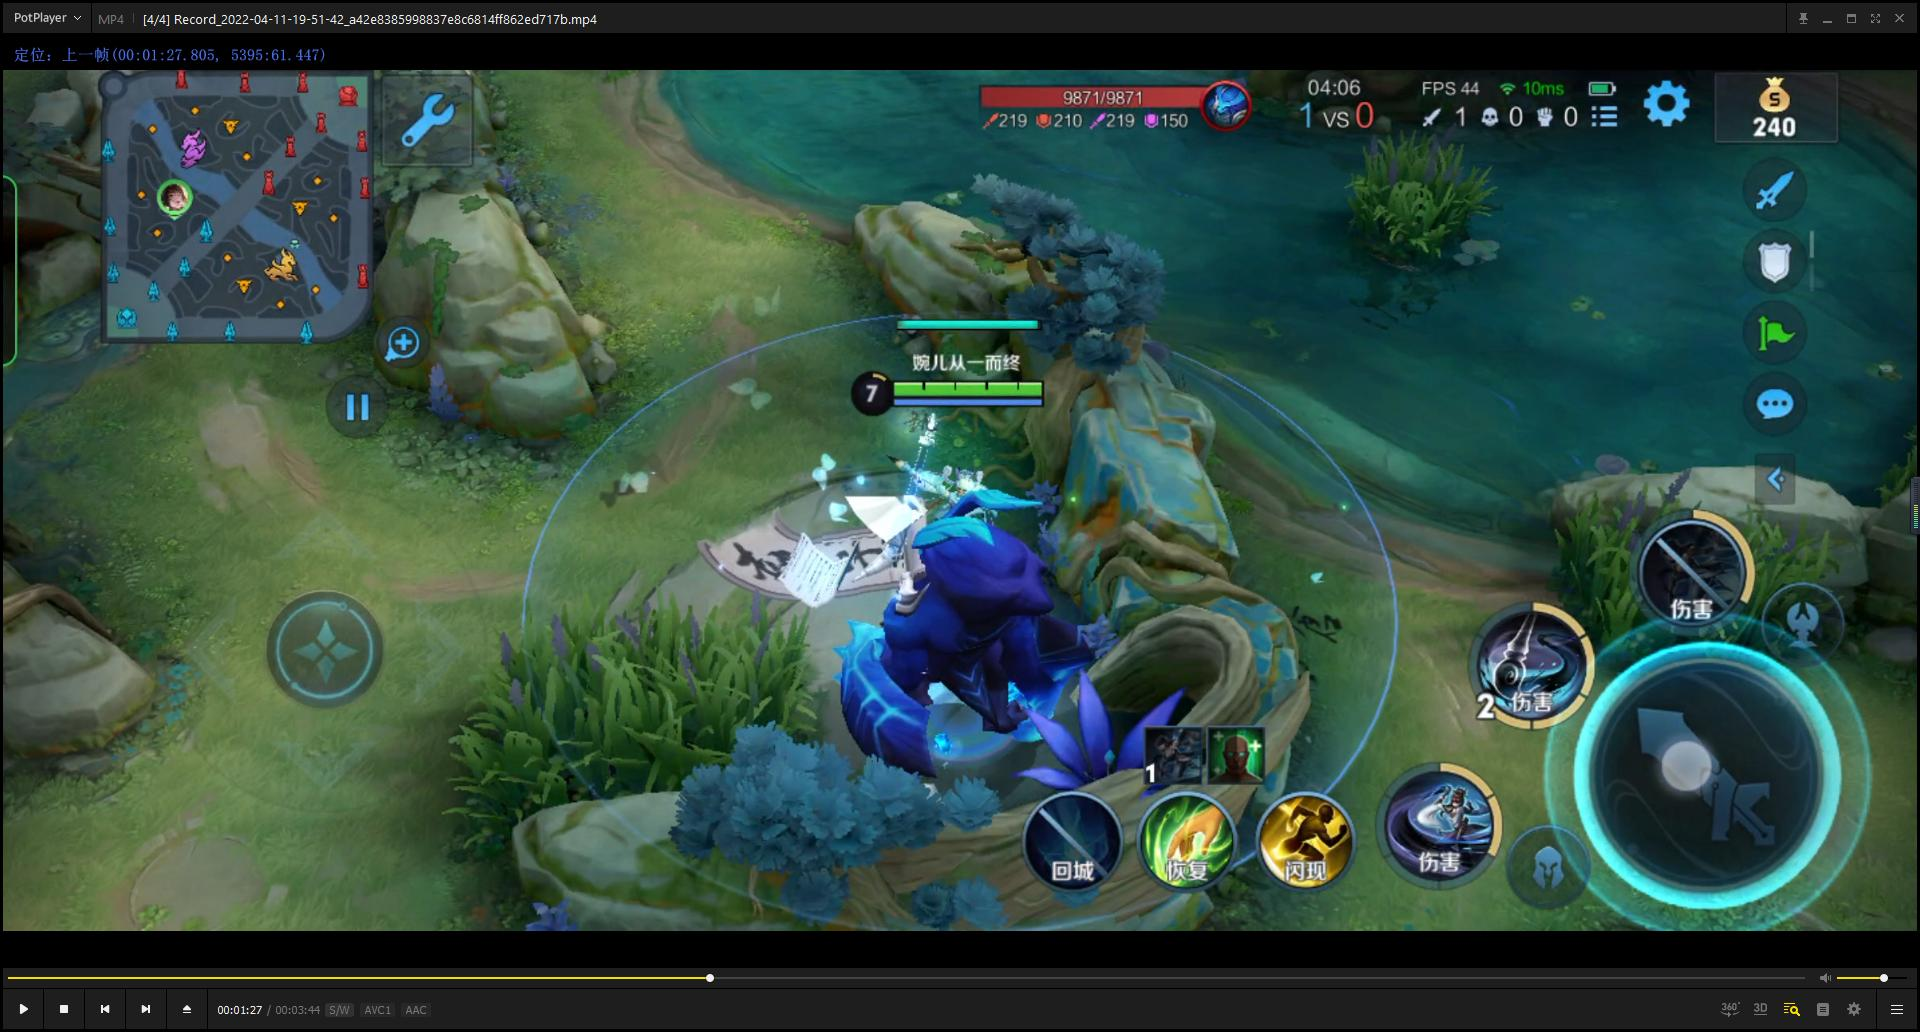Buff: (795, 477, 1132, 808)
Hero: (879, 452, 1001, 544)
